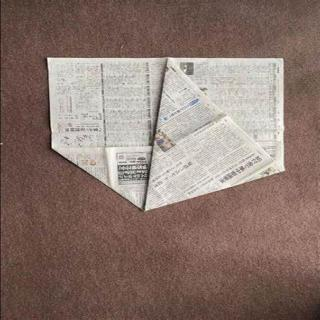Anorganik: (47, 54, 290, 200)
